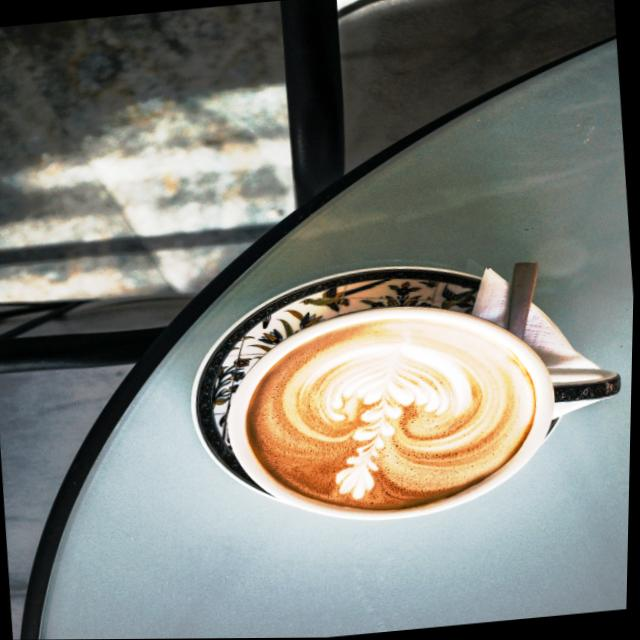drink: (224, 306, 556, 520)
